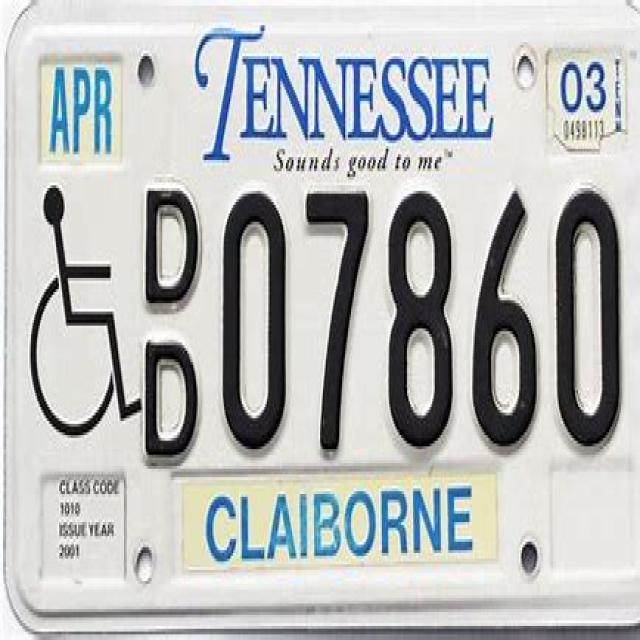symbol_of_access: (30, 182, 142, 438)
